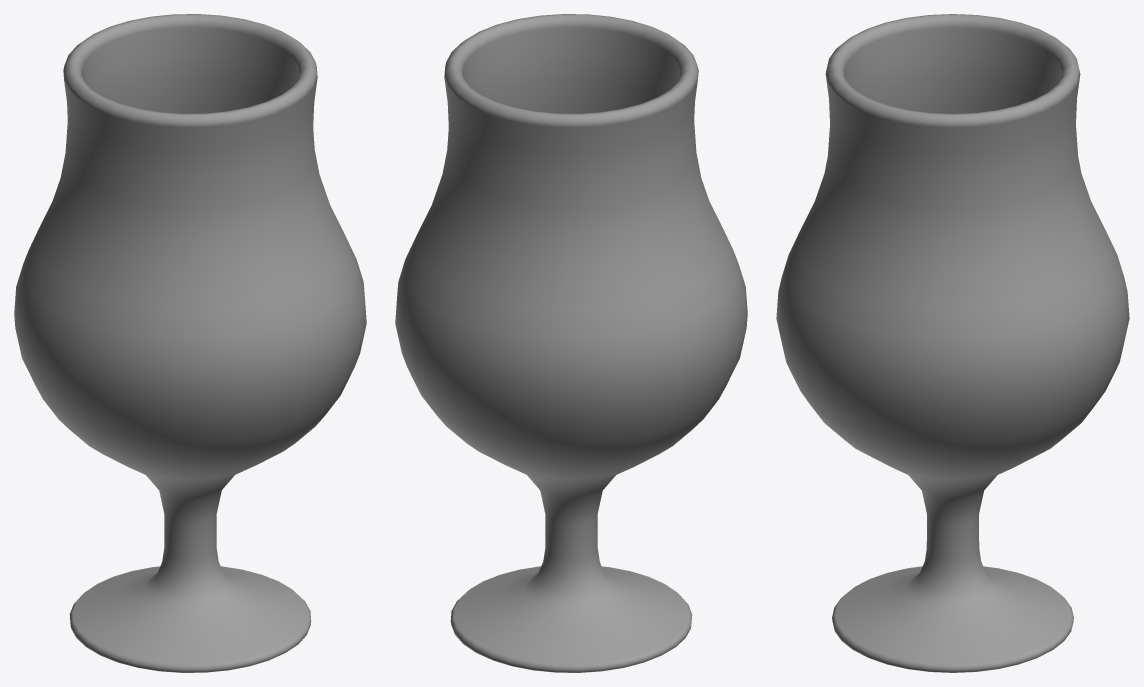
Rendered from Tumbler_03.glb.
The picture shows the model from 3 angles, left to right: view 1: azimuth 30°, elevation 25°; view 2: azimuth 150°, elevation 25°; view 3: azimuth 270°, elevation 25°; orthographic projection.
Visible parts, largest first — view 1: Tumbler_03; view 2: Tumbler_03; view 3: Tumbler_03.
Part boxes in pixels (left/top/right/bottom): Tumbler_03: left=14, top=14, right=366, bottom=672; Tumbler_03: left=395, top=14, right=747, bottom=672; Tumbler_03: left=776, top=14, right=1129, bottom=672.
Bounding box in the file's own units: 0.0914 × 0.1595 × 0.0914.
Materials: 1 (1 with a texture image).
